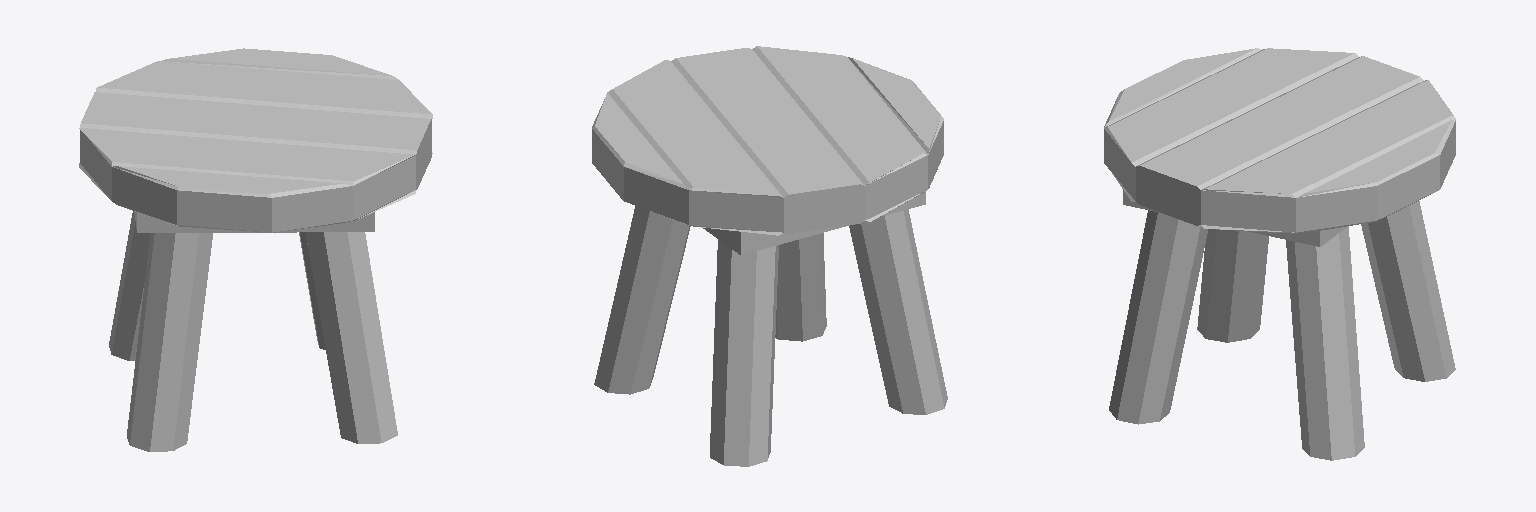
The model's file is banquito.obj.
3 renders of one model, left to right at view 1: azimuth 30°, elevation 25°; view 2: azimuth 150°, elevation 25°; view 3: azimuth 270°, elevation 25°, orthographic.
Parts seen in each view (by area): view 1: stool.003; view 2: stool.003; view 3: stool.003.
Boxes of the visible parts, box(x1,y1,x2,y2) form: stool.003: box(79, 48, 432, 451); stool.003: box(592, 46, 947, 466); stool.003: box(1104, 48, 1455, 460).
Size of the model in its own units: 1.05 by 0.8898 by 1.05.